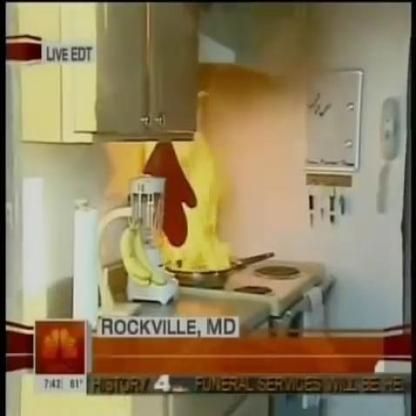fire: (164, 140, 232, 282)
